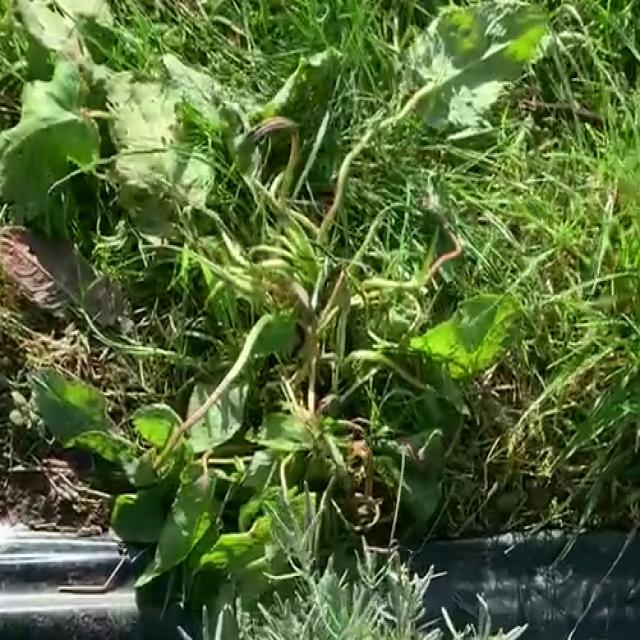organic waste: (0, 0, 572, 590)
